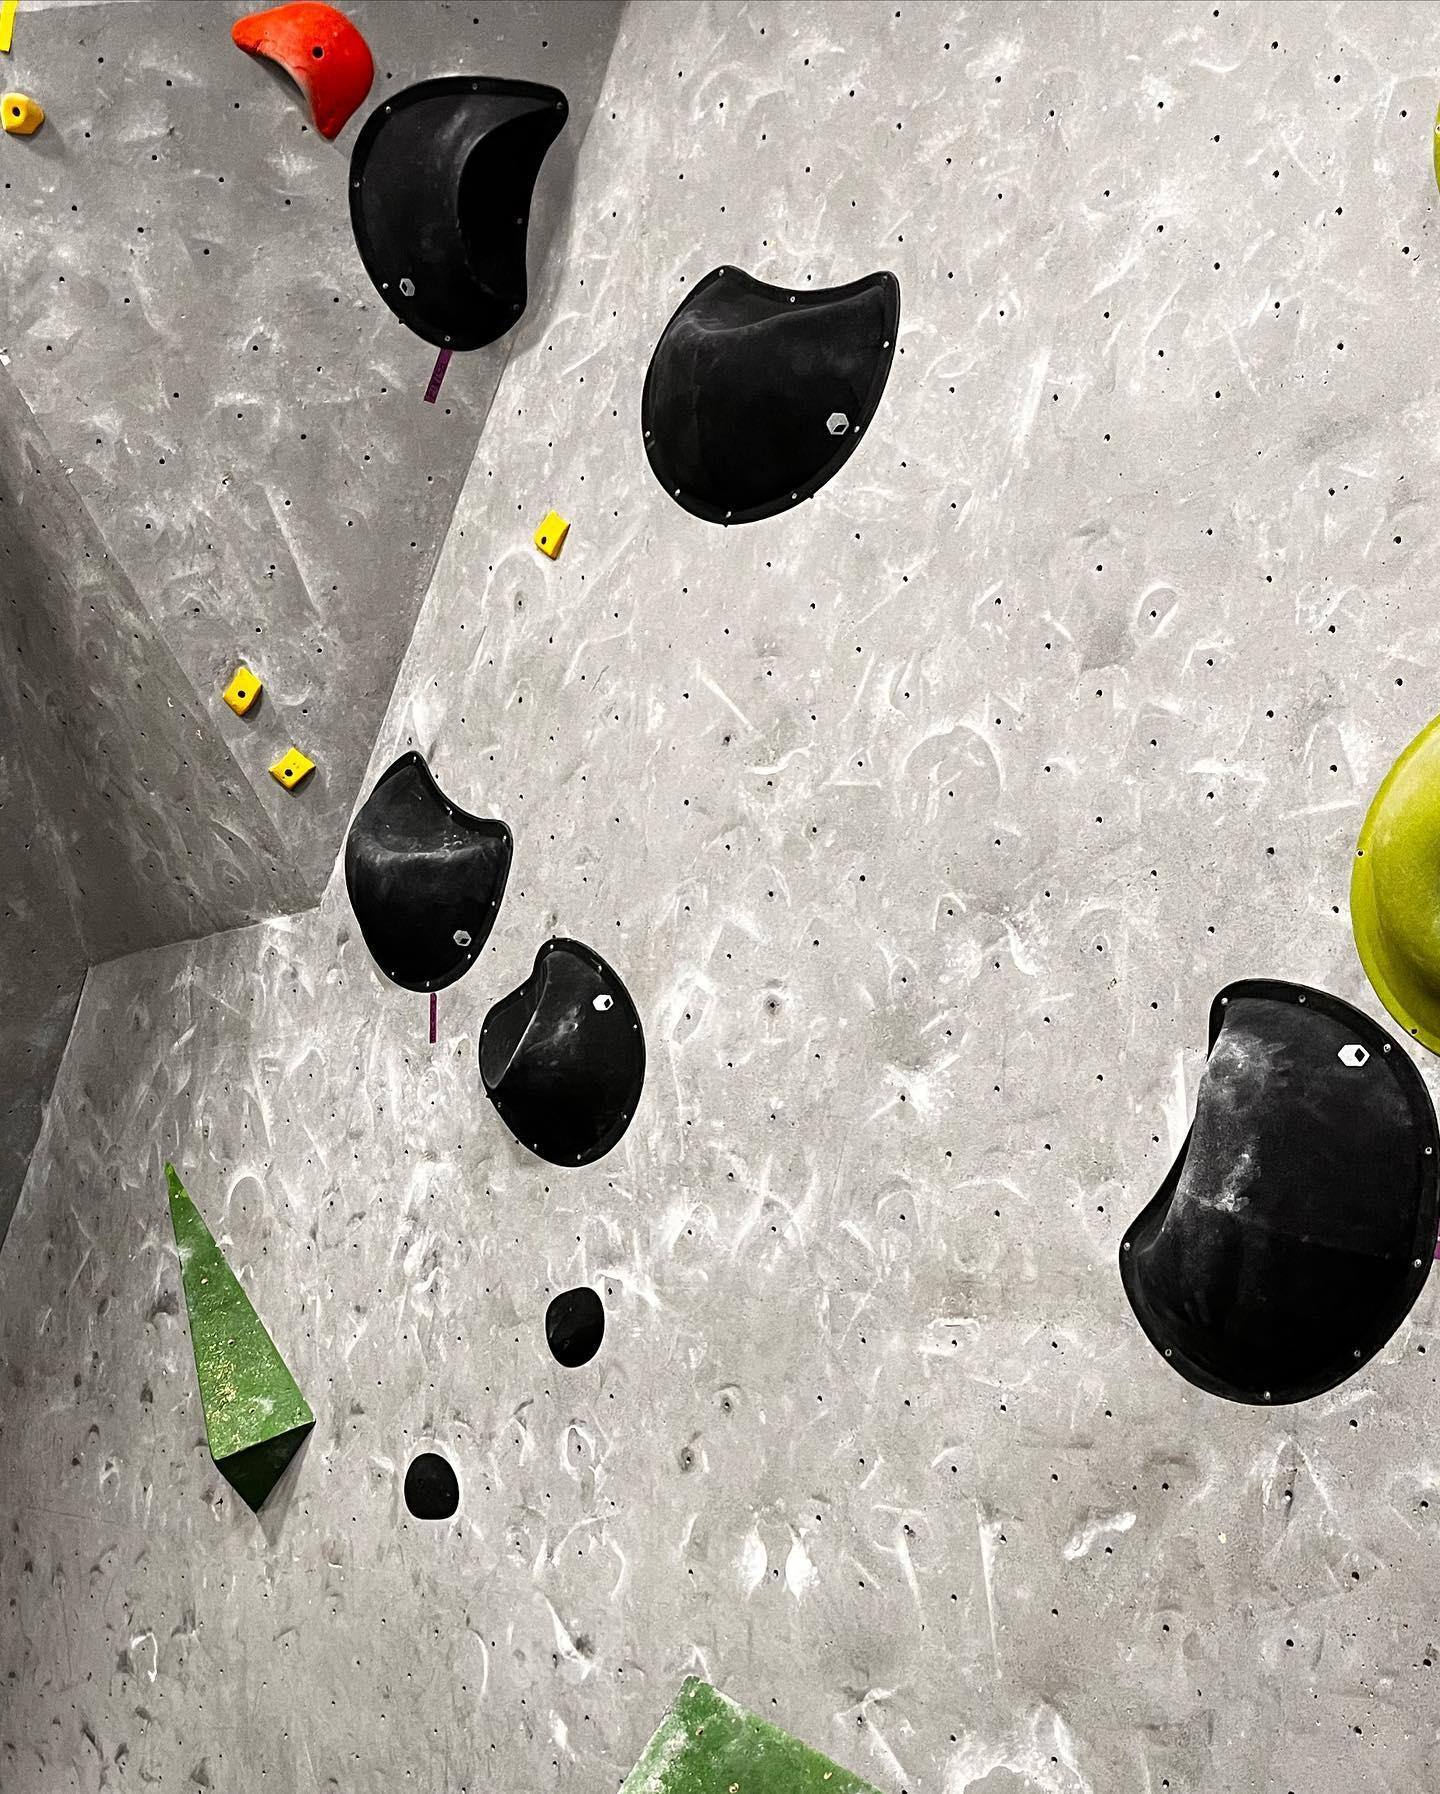hold: (1115, 977, 1439, 1406), (641, 264, 899, 525), (348, 73, 570, 353), (344, 751, 513, 993), (478, 939, 645, 1168), (1350, 716, 1440, 1059), (231, 0, 376, 143), (545, 1286, 604, 1368), (403, 1452, 461, 1521), (267, 746, 316, 793), (220, 666, 263, 717), (0, 93, 46, 134), (533, 510, 570, 560)
volume: (166, 1153, 313, 1516), (616, 1672, 888, 1794)
